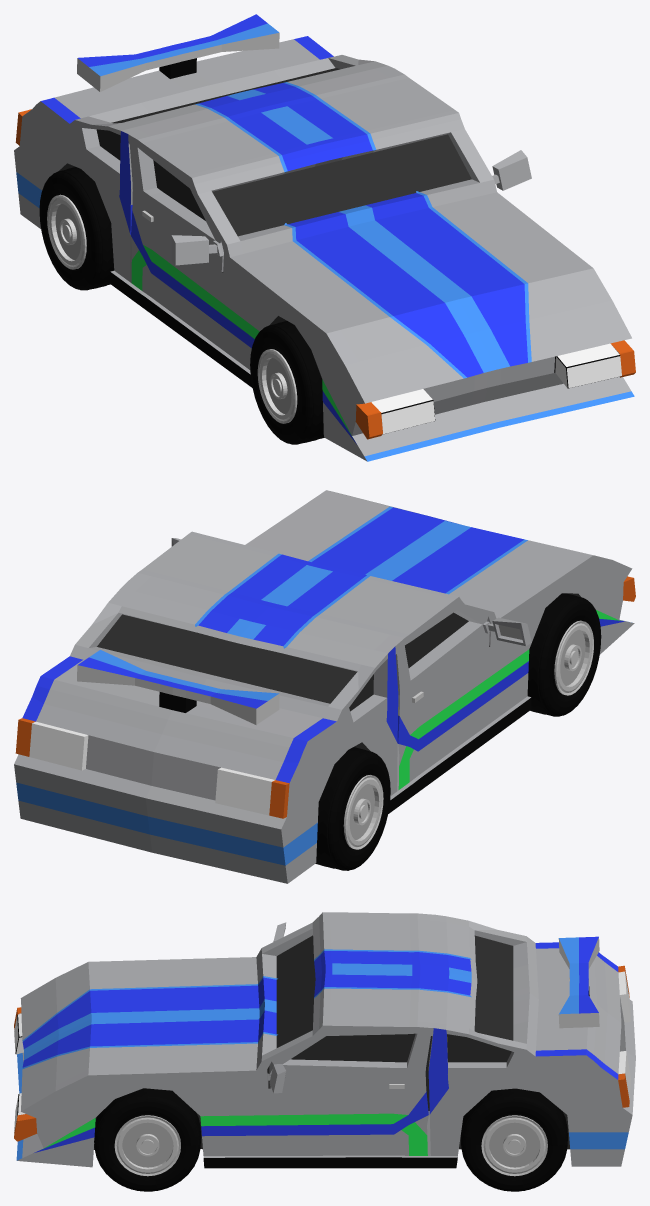
The picture shows the model from 3 angles, top to bottom: view 1: azimuth 30°, elevation 25°; view 2: azimuth 150°, elevation 25°; view 3: azimuth 270°, elevation 25°; orthographic projection. The views are drawn at different scales.
Visible parts, largest first — view 1: BODY46B, WHEEL.004, WHEEL.001; view 2: BODY46B, WHEEL.004, WHEEL.001; view 3: BODY46B, WHEEL.002, WHEEL.003.
Part boxes in pixels (bbox=[...]): BODY46B: bbox=[14, 14, 635, 461]; WHEEL.004: bbox=[39, 167, 114, 290]; WHEEL.001: bbox=[250, 321, 324, 444]; BODY46B: bbox=[14, 490, 635, 883]; WHEEL.004: bbox=[315, 747, 390, 870]; WHEEL.001: bbox=[527, 593, 601, 716]; BODY46B: bbox=[14, 912, 635, 1168]; WHEEL.002: bbox=[460, 1088, 567, 1191]; WHEEL.003: bbox=[94, 1088, 201, 1191].
Size of the model in its own units: 131 by 65.61 by 227.
